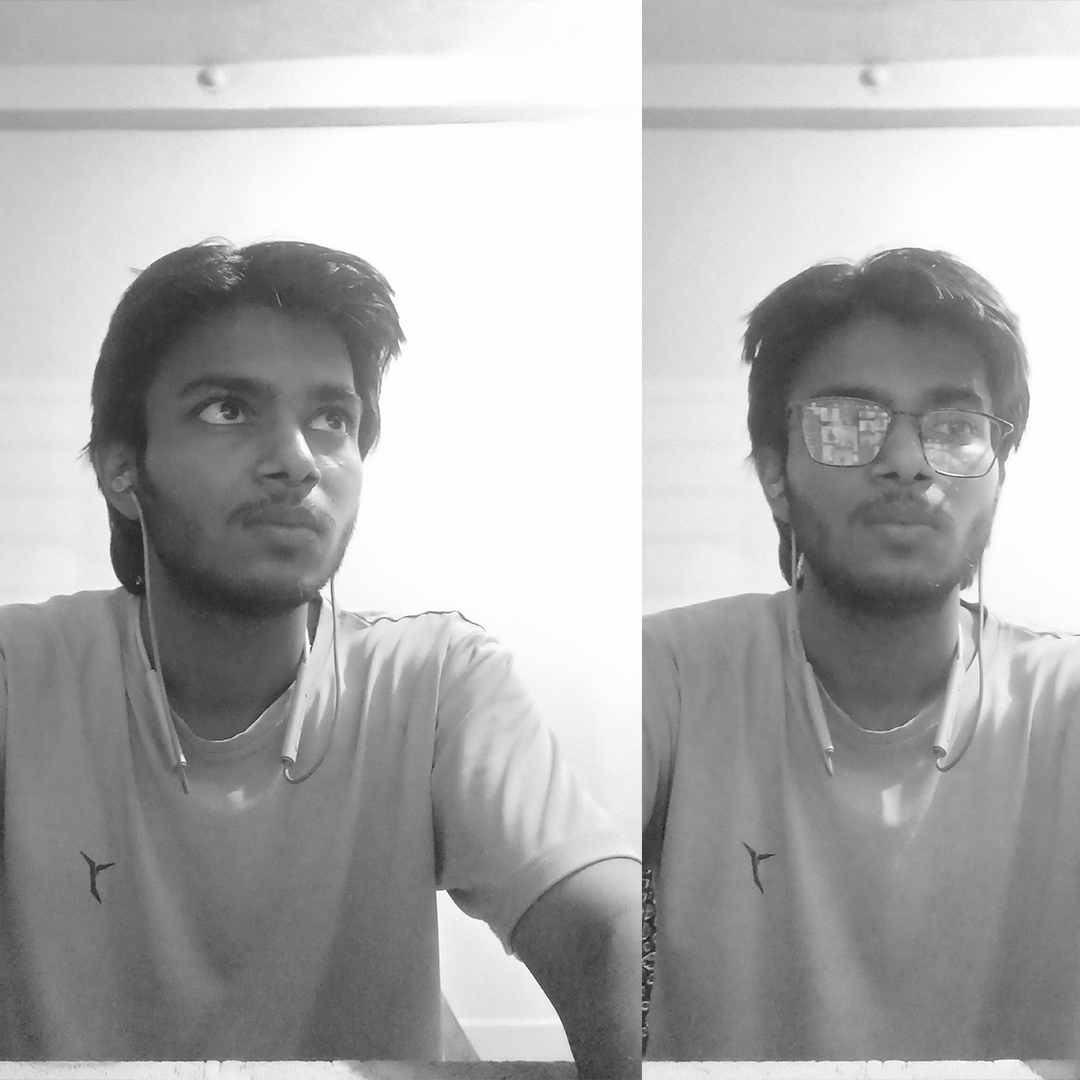Focused: (742, 184, 1046, 663)
distracted: (71, 169, 440, 665)
